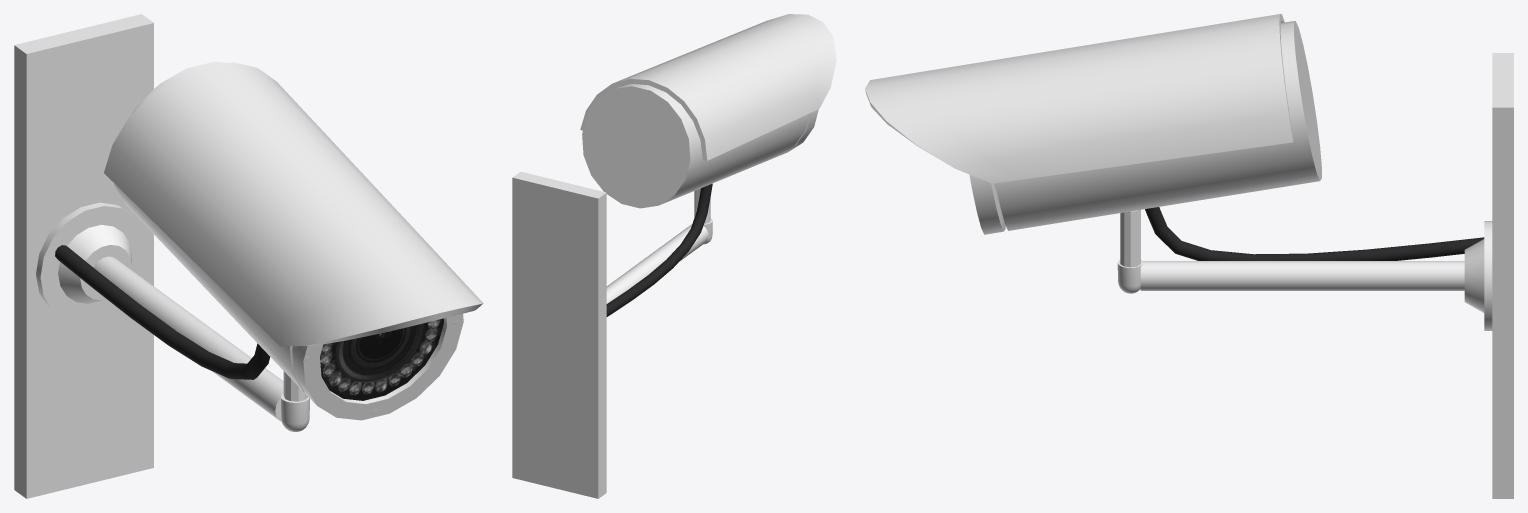
The model's file is cctv.glb.
The picture shows the model from 3 angles, left to right: view 1: azimuth 30°, elevation 25°; view 2: azimuth 150°, elevation 25°; view 3: azimuth 270°, elevation 25°; orthographic projection. The views are drawn at different scales.
Parts seen in each view (by area): view 1: Cctv; view 2: Cctv; view 3: Cctv.
Boxes of the visible parts, x1,y1,x2,y2 form: Cctv: (14,14,483,498); Cctv: (512,14,836,498); Cctv: (865,14,1513,498).
Size of the model in its own units: 0.0886 by 0.2286 by 0.3006.
1 material, 1 textured.
